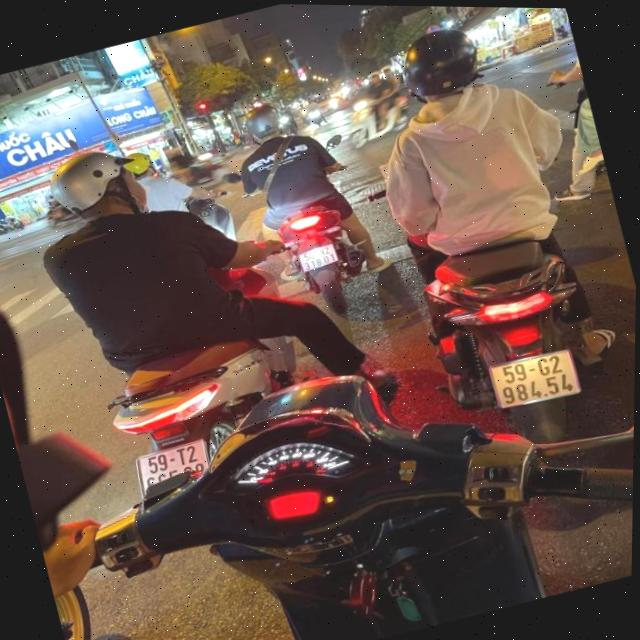motorcycle: (376, 202, 637, 558), (86, 314, 319, 522), (264, 189, 382, 321)
plate: (483, 339, 586, 417), (127, 430, 219, 500), (289, 235, 343, 277)
